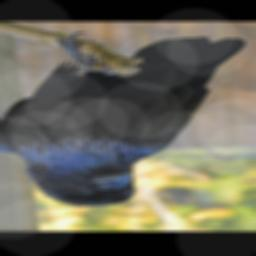Crow: (0, 32, 245, 208)
